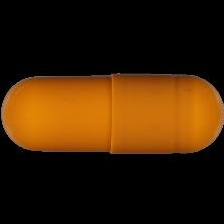33261-804: (0, 0, 224, 224)
